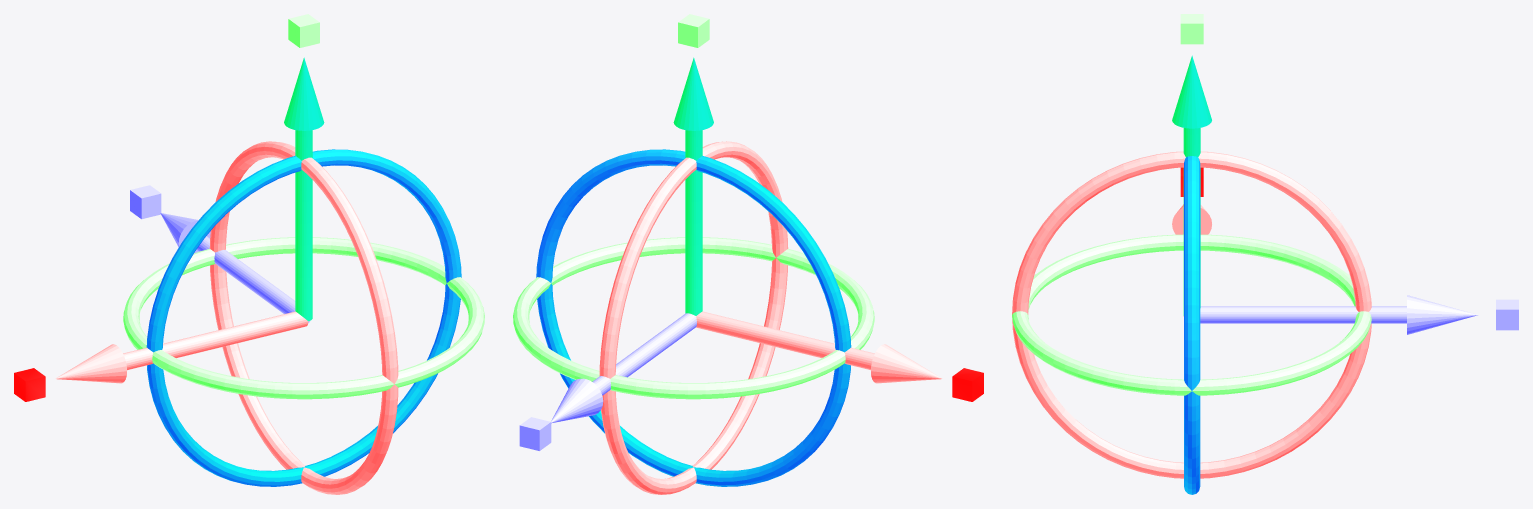
Rendered from gizmo.fbx.
The picture shows the model from 3 angles, left to right: view 1: azimuth 30°, elevation 25°; view 2: azimuth 150°, elevation 25°; view 3: azimuth 270°, elevation 25°; orthographic projection.
Parts seen in each view (by area): view 1: Ring_Z, Ring_X, Ring_Y, Arrow_Y, Arrow_X, Arrow_Z, Cube_X, Cube_Z, Cube_Y; view 2: Ring_Z, Ring_X, Ring_Y, Arrow_Y, Arrow_X, Arrow_Z, Cube_Z, Cube_X, Cube_Y; view 3: Ring_X, Ring_Y, Ring_Z, Arrow_Z, Arrow_Y, Cube_Y, Cube_Z, Arrow_X.
Boxes of the visible parts, x1,y1,x2,y2 form: Ring_Z: (146,149,461,486); Ring_X: (209,141,398,494); Ring_Y: (123,237,484,399); Arrow_Y: (284,57,324,321); Arrow_X: (55,311,308,383); Arrow_Z: (160,213,309,322); Cube_X: (14,368,45,401); Cube_Z: (130,185,161,219); Cube_Y: (288,14,319,47); Ring_Z: (536,149,851,486); Ring_X: (599,141,788,494); Ring_Y: (513,237,874,399); Arrow_Y: (673,57,713,315); Arrow_X: (696,311,942,383); Arrow_Z: (551,313,696,423); Cube_Z: (519,417,551,450); Cube_X: (952,368,983,401); Cube_Y: (678,14,709,47); Ring_X: (1012,151,1371,478); Ring_Y: (1012,234,1371,395); Ring_Z: (1184,156,1200,494); Arrow_Z: (1200,295,1477,334); Arrow_Y: (1172,55,1211,315); Cube_Y: (1180,14,1203,44); Cube_Z: (1496,299,1518,330); Arrow_X: (1172,204,1211,316).
Size of the model in its own units: 177 by 177 by 177.
